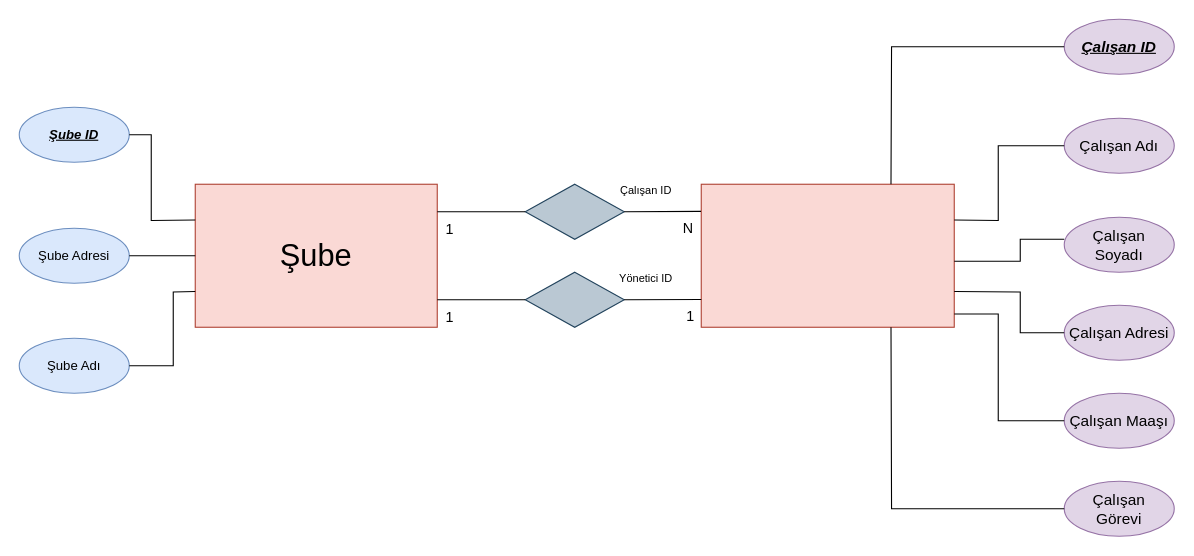
The diagram is 1194 pixels wide and 556 high, and some of its shapes have lost their labels. The box of each missing label's shape, as (x1, y1, x2, y2) in pixels:
Yönetir: (524, 271, 624, 327)
Çalışan: (700, 183, 954, 327)
Çalışır: (524, 183, 624, 239)
